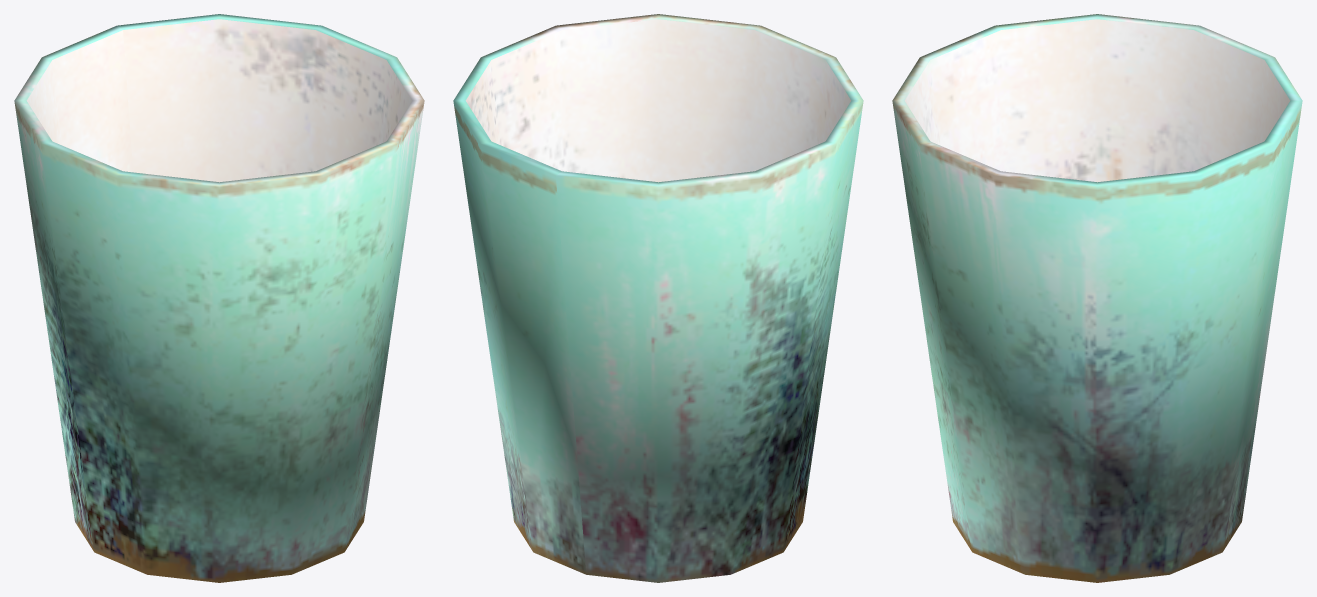
File: tincanVase06.FBX
3 views of the same model, side by side, from view 1: azimuth 30°, elevation 25°; view 2: azimuth 150°, elevation 25°; view 3: azimuth 270°, elevation 25° (orthographic).
Visible parts, largest first — view 1: SM_TinCanVase06; view 2: SM_TinCanVase06; view 3: SM_TinCanVase06.
Part boxes in pixels (x1=…): SM_TinCanVase06: x1=14, y1=14, x2=424, y2=582; SM_TinCanVase06: x1=453, y1=14, x2=863, y2=582; SM_TinCanVase06: x1=892, y1=14, x2=1302, y2=582.
Size of the model in its own units: 18.22 by 20.64 by 18.22.
Materials: 1 (1 with a texture image).
